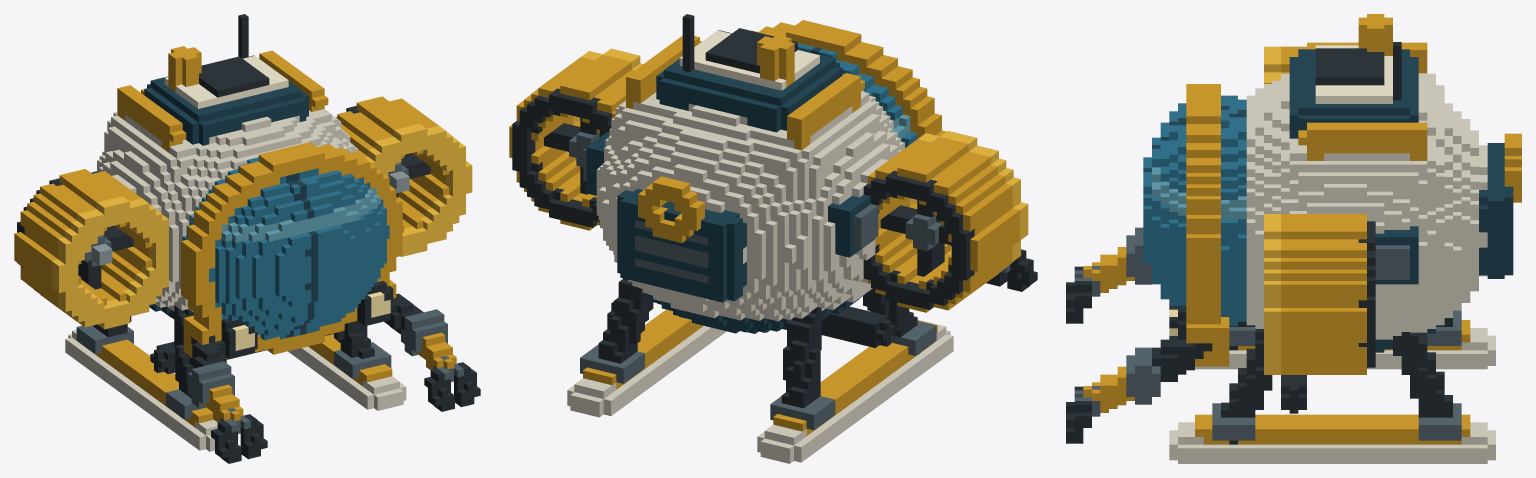
Rendered from submersible.glb.
3 views of the same model, side by side, from view 1: azimuth 30°, elevation 25°; view 2: azimuth 150°, elevation 25°; view 3: azimuth 270°, elevation 25° (orthographic). The views are drawn at different scales.
Parts seen in each view (by area): view 1: submersible; view 2: submersible; view 3: submersible.
Boxes of the visible parts, x1,y1,x2,y2 form: submersible: (14, 14, 480, 463); submersible: (509, 14, 1037, 463); submersible: (1066, 14, 1521, 463).
Size of the model in its own units: 4.48 by 3.43 by 3.71.
